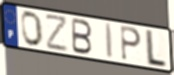B: (71, 17, 93, 56)
I: (104, 22, 114, 61)
L: (145, 29, 168, 70)
O: (21, 10, 45, 48)
P: (120, 25, 143, 63)
Z: (44, 14, 69, 53)
